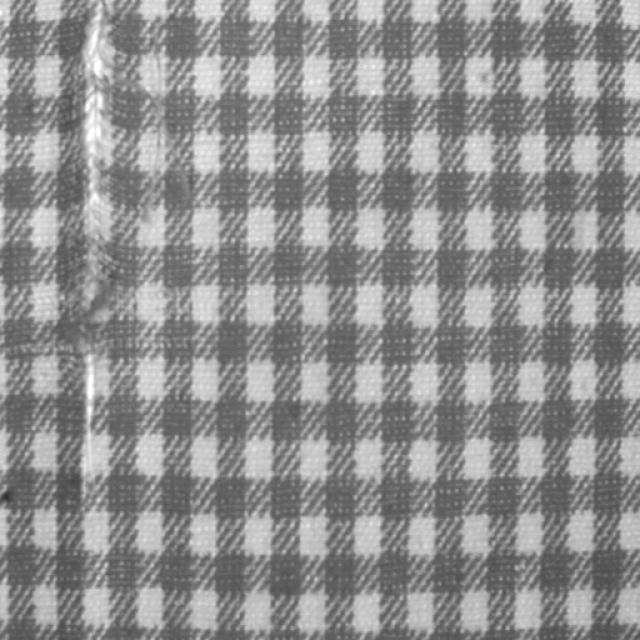Hole-Defect: (84, 0, 112, 485)
